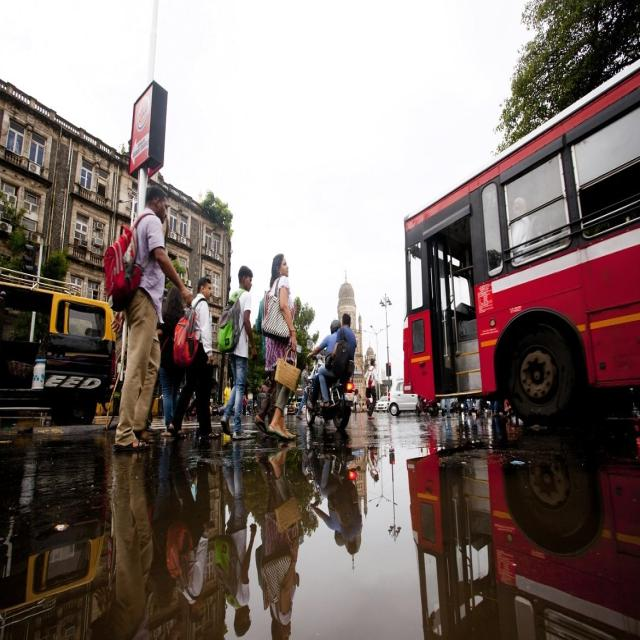bus: (402, 62, 640, 423)
